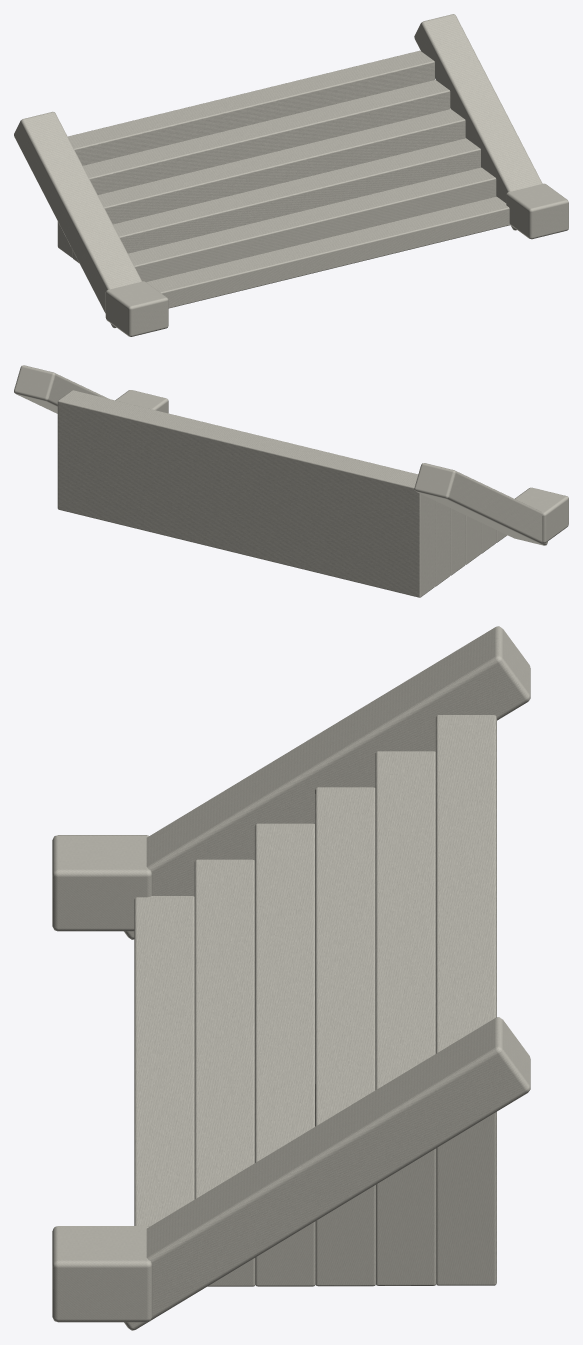
Rendered from jungle-temple-and-stone-city-processional-stair-flight-313b8865__36109.glb.
3 renders of one model, top to bottom at view 1: azimuth 30°, elevation 25°; view 2: azimuth 150°, elevation 25°; view 3: azimuth 270°, elevation 25°, orthographic. The views are drawn at different scales.
Parts seen in each view (by area): view 1: processional-stair-flight; view 2: processional-stair-flight; view 3: processional-stair-flight.
Part boxes in pixels (box(x1,y1,x2,y2)): processional-stair-flight: box(14, 14, 568, 336); processional-stair-flight: box(14, 365, 568, 597); processional-stair-flight: box(52, 626, 530, 1330).
Bounding box in the file's own units: 5.06 × 1.56 × 2.38.
Materials: 1 (1 with a texture image).
